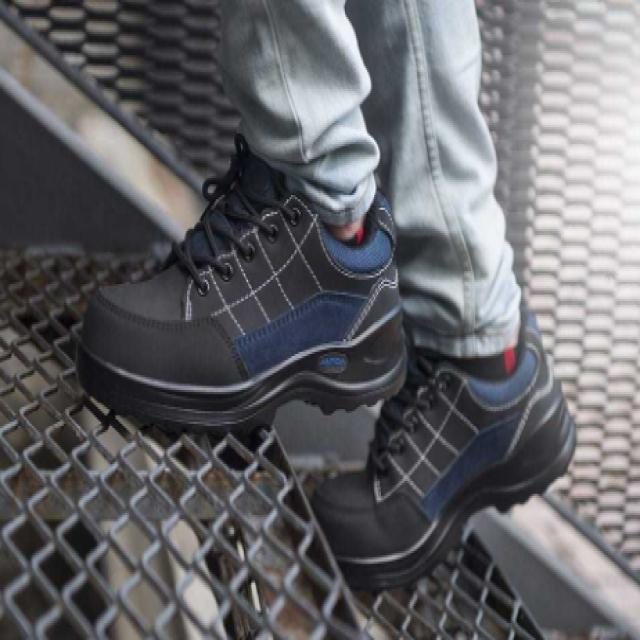shoes: (69, 131, 581, 603)
